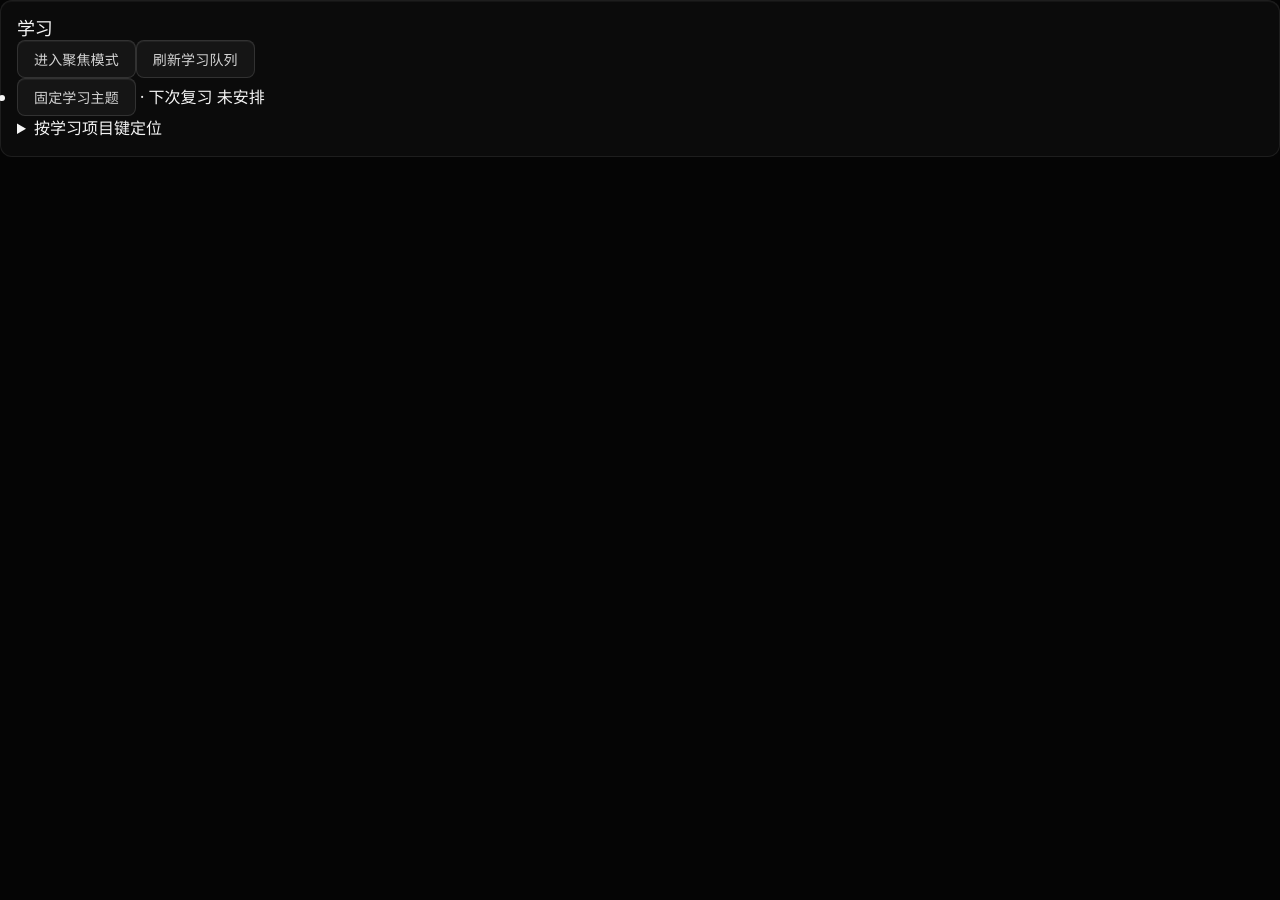
Test: SIMULATED shell selection echo does not reread the just-opened learning item
Click the button "固定学习主题". click: click(76, 96)
box: left=17, top=78, right=136, bottom=116
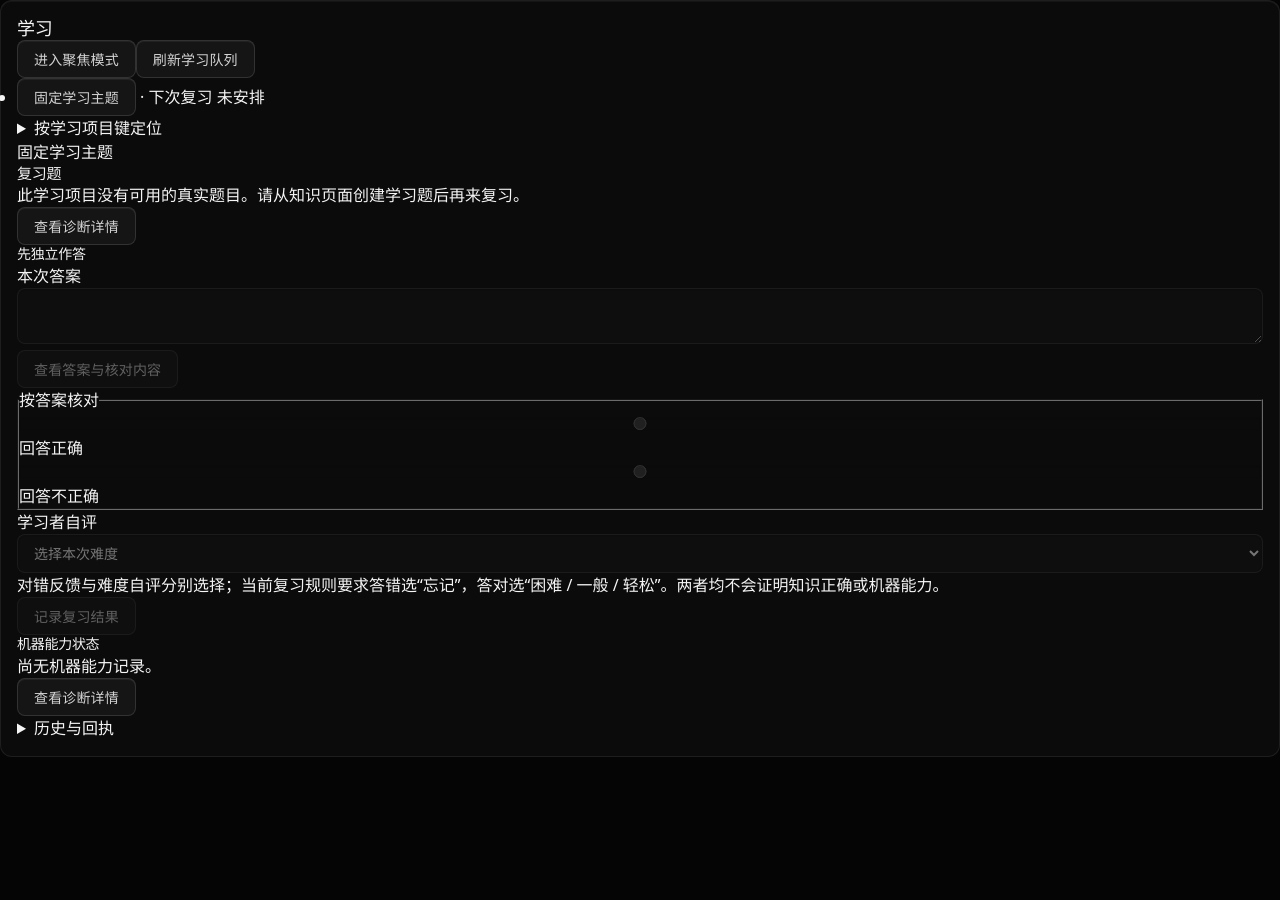
Result: the heading "复习题" is shown at left=17, top=162, right=61, bottom=182
